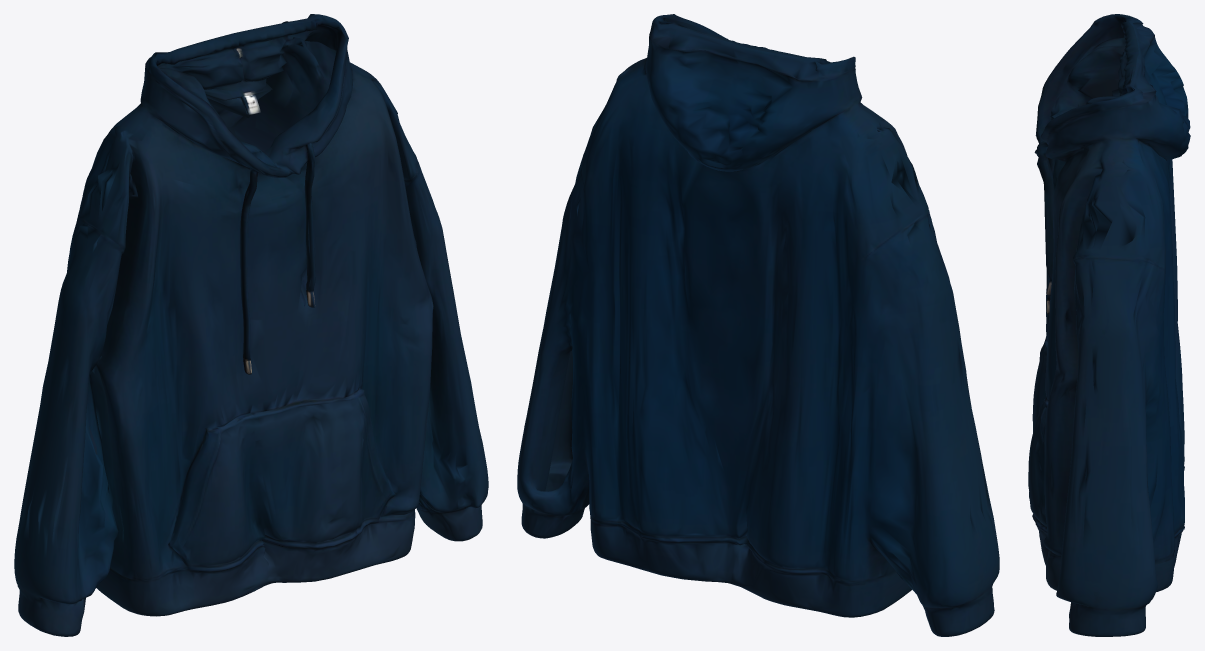
The picture shows the model from 3 angles, left to right: view 1: azimuth 30°, elevation 25°; view 2: azimuth 150°, elevation 25°; view 3: azimuth 270°, elevation 25°; orthographic projection. The views are drawn at different scales.
Parts seen in each view (by area): view 1: TT08-W01_hy; view 2: TT08-W01_hy; view 3: TT08-W01_hy.
Part boxes in pixels (<box>): TT08-W01_hy: <box>14,14,488,636</box>; TT08-W01_hy: <box>517,14,999,636</box>; TT08-W01_hy: <box>1028,14,1190,636</box>.
Bounding box in the file's own units: 0.8823 × 1 × 0.3001.
Materials: 1 (1 with a texture image).
